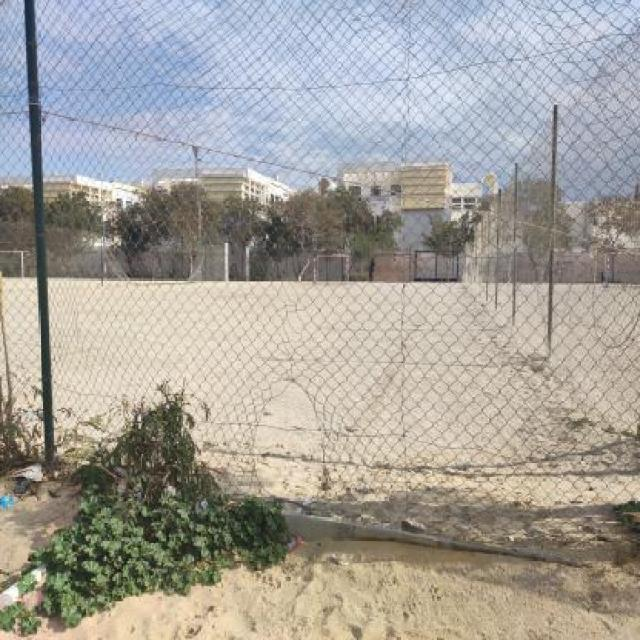fence line: (248, 375, 335, 512)
